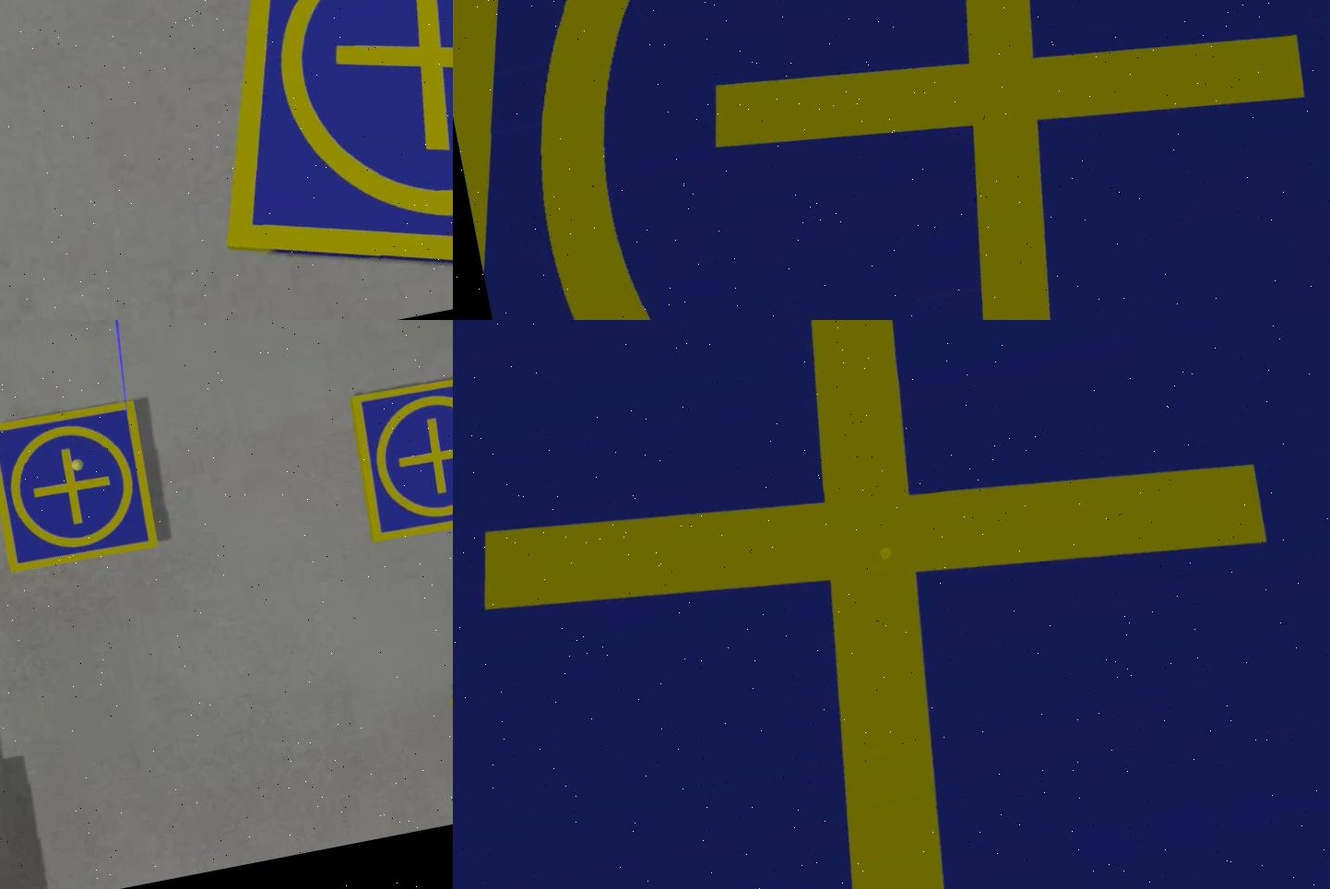large_base: (452, 321, 1328, 889), (452, 1, 1328, 321)
small_base: (162, 1, 452, 321), (0, 397, 162, 579), (343, 367, 452, 550)
